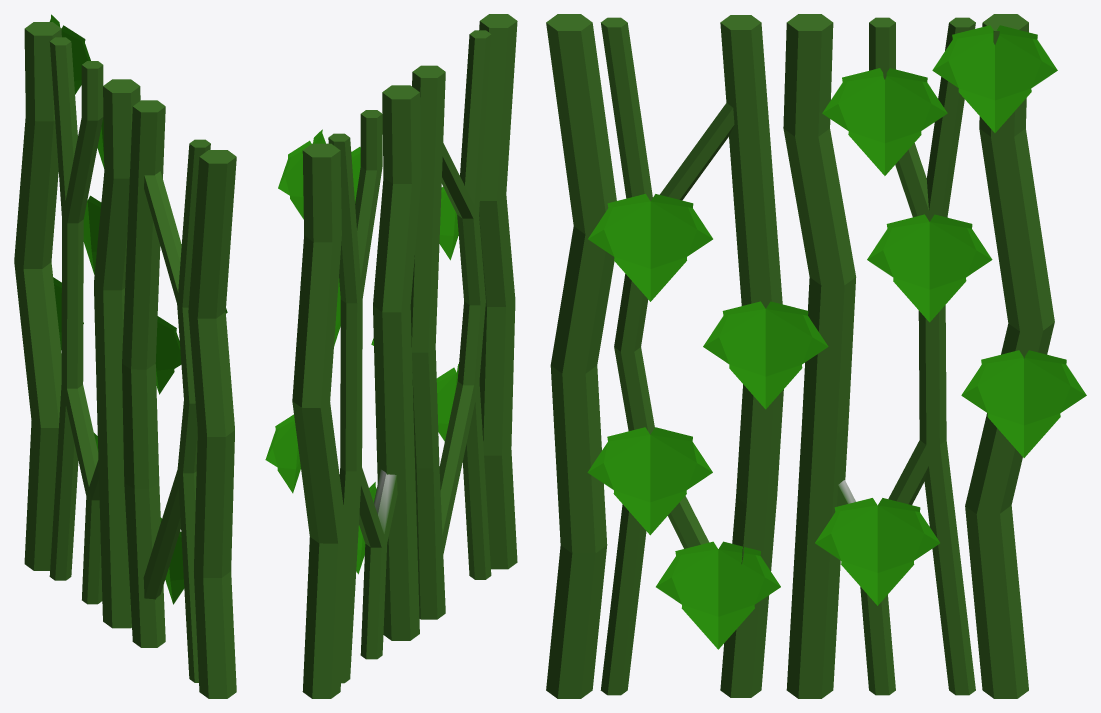
The model's file is Vine mid.fbx.
3 views of the same model, side by side, from view 1: azimuth 30°, elevation 25°; view 2: azimuth 150°, elevation 25°; view 3: azimuth 270°, elevation 25° (orthographic). The views are drawn at different scales.
Parts seen in each view (by area): view 1: vine mid; view 2: vine mid; view 3: vine mid.
Boxes of the visible parts, x1,y1,x2,y2 form: vine mid: (14,14,236,698); vine mid: (265,14,517,698); vine mid: (546,14,1086,698).
Size of the model in its own units: 0.0584 by 0.7979 by 0.5805.
